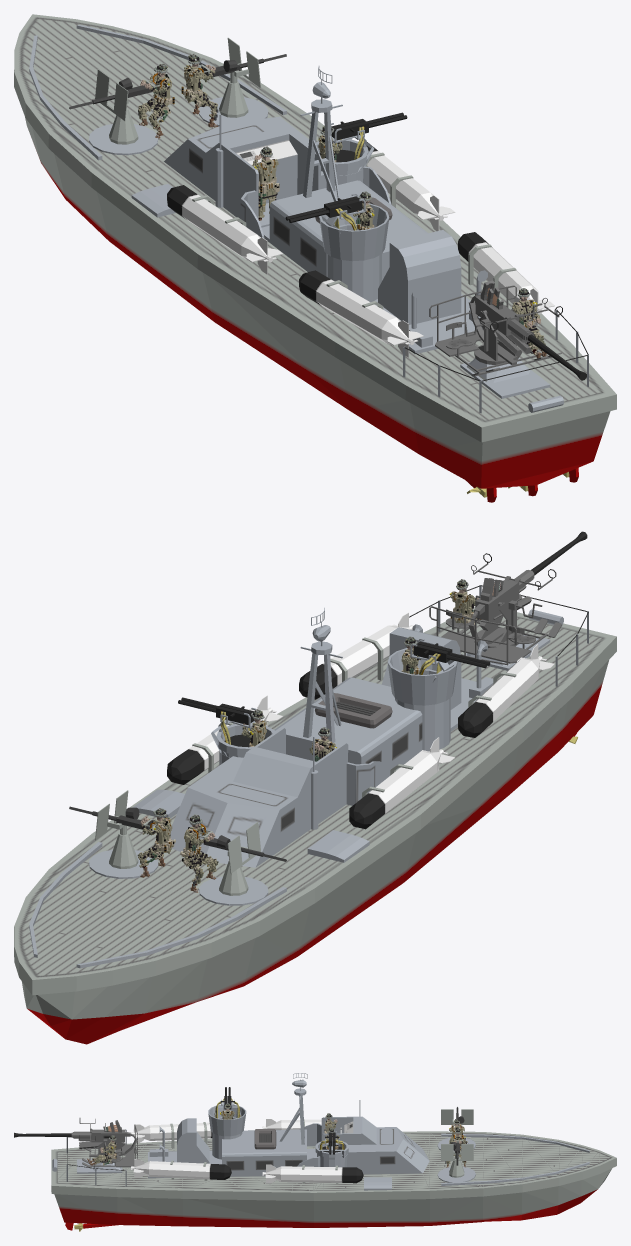
The model's file is pt_boat.glb.
The picture shows the model from 3 angles, top to bottom: view 1: azimuth 30°, elevation 25°; view 2: azimuth 150°, elevation 25°; view 3: azimuth 270°, elevation 25°; orthographic projection. The views are drawn at different scales.
Visible parts, largest first — view 1: 00_chassis_pt_boat_chassis.mesh, 07_turret_bofors_turret.mesh, 10_turret_pt_boat_mg_turret.mesh, 09_turret_oerlikon_turret.mesh, crew_soldier_SLOT_03_GUNNER, 11_turret_pt_boat_mg_turret.mesh, crew_soldier_SLOT_02_GUNNER, 08_turret_oerlikon_turret.mesh, crew_soldier_SLOT_00_DRIVER, crew_soldier_SLOT_01_GUNNER; view 2: 00_chassis_pt_boat_chassis.mesh, 07_turret_bofors_turret.mesh, crew_soldier_SLOT_03_GUNNER, 09_turret_oerlikon_turret.mesh, 10_turret_pt_boat_mg_turret.mesh, 11_turret_pt_boat_mg_turret.mesh, 08_turret_oerlikon_turret.mesh, crew_soldier_SLOT_02_GUNNER, crew_soldier_SLOT_01_GUNNER; view 3: 00_chassis_pt_boat_chassis.mesh, 07_turret_bofors_turret.mesh, 08_turret_oerlikon_turret.mesh, 09_turret_oerlikon_turret.mesh, 10_turret_pt_boat_mg_turret.mesh, crew_soldier_SLOT_01_GUNNER, 11_turret_pt_boat_mg_turret.mesh, crew_soldier_SLOT_02_GUNNER.
Part boxes in pixels (x1,y1,x2,y2): 00_chassis_pt_boat_chassis.mesh: [14, 14, 616, 502]; 07_turret_bofors_turret.mesh: [429, 280, 586, 380]; 10_turret_pt_boat_mg_turret.mesh: [331, 112, 407, 185]; 09_turret_oerlikon_turret.mesh: [69, 69, 165, 121]; crew_soldier_SLOT_03_GUNNER: [138, 63, 174, 138]; 11_turret_pt_boat_mg_turret.mesh: [285, 193, 365, 233]; crew_soldier_SLOT_02_GUNNER: [181, 54, 218, 127]; 08_turret_oerlikon_turret.mesh: [197, 37, 286, 87]; crew_soldier_SLOT_00_DRIVER: [252, 146, 279, 220]; crew_soldier_SLOT_01_GUNNER: [512, 288, 546, 358]; 00_chassis_pt_boat_chassis.mesh: [14, 585, 616, 1044]; 07_turret_bofors_turret.mesh: [429, 531, 587, 665]; crew_soldier_SLOT_03_GUNNER: [180, 814, 218, 892]; 09_turret_oerlikon_turret.mesh: [193, 822, 286, 873]; 10_turret_pt_boat_mg_turret.mesh: [178, 697, 256, 763]; 11_turret_pt_boat_mg_turret.mesh: [410, 638, 490, 681]; 08_turret_oerlikon_turret.mesh: [69, 790, 157, 840]; crew_soldier_SLOT_02_GUNNER: [137, 808, 175, 877]; crew_soldier_SLOT_01_GUNNER: [449, 579, 481, 624]; 00_chassis_pt_boat_chassis.mesh: [51, 1073, 616, 1231]; 07_turret_bofors_turret.mesh: [14, 1118, 137, 1168]; 08_turret_oerlikon_turret.mesh: [441, 1135, 473, 1165]; 09_turret_oerlikon_turret.mesh: [441, 1107, 473, 1126]; 10_turret_pt_boat_mg_turret.mesh: [317, 1131, 347, 1163]; crew_soldier_SLOT_01_GUNNER: [87, 1135, 116, 1165]; 11_turret_pt_boat_mg_turret.mesh: [214, 1087, 241, 1119]; crew_soldier_SLOT_02_GUNNER: [445, 1128, 466, 1167].
Bounding box in the file's own units: 5.44 × 6.37 × 23.24.
39 materials, 3 textured.
